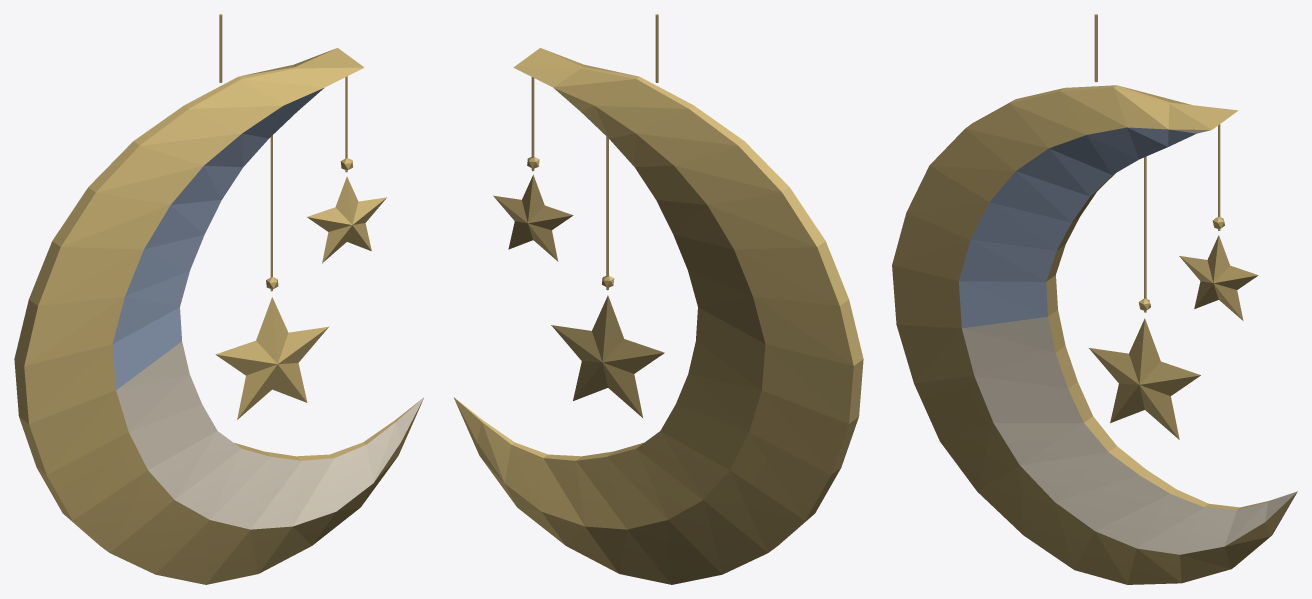
Rendered from moon.glb.
3 renders of one model, left to right at view 1: azimuth 30°, elevation 25°; view 2: azimuth 150°, elevation 25°; view 3: azimuth 330°, elevation 25°, orthographic.
Visible parts, largest first — view 1: swing_mesh; view 2: swing_mesh; view 3: swing_mesh.
Part boxes in pixels (<box>): swing_mesh: <box>14,14,423,584</box>; swing_mesh: <box>454,14,863,584</box>; swing_mesh: <box>892,14,1297,584</box>.
Bounding box in the file's own units: 3 × 4 × 0.4.
